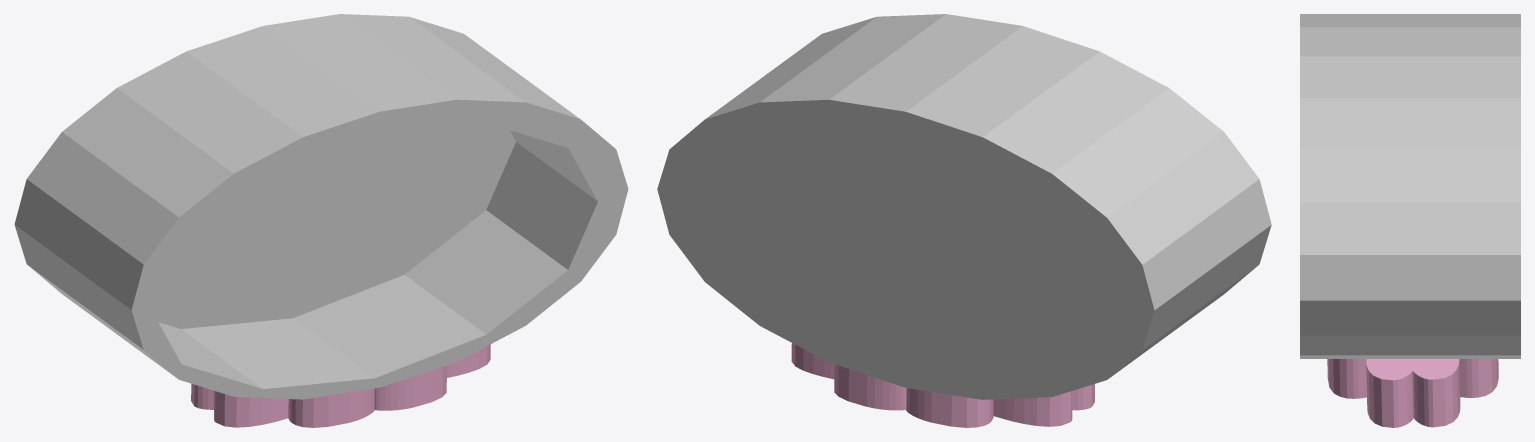
File: tinker.obj
3 views of the same model, side by side, from view 1: azimuth 30°, elevation 25°; view 2: azimuth 150°, elevation 25°; view 3: azimuth 270°, elevation 25° (orthographic). The views are drawn at different scales.
Parts seen in each view (by area): view 1: group_0_16089887, group_0_15708628; view 2: group_0_16089887, group_0_15708628; view 3: group_0_16089887, group_0_15708628.
Part boxes in pixels (x1=…): group_0_16089887: x1=14, y1=14, x2=628, y2=399; group_0_15708628: x1=191, y1=344, x2=490, y2=427; group_0_16089887: x1=657, y1=14, x2=1271, y2=399; group_0_15708628: x1=791, y1=343, x2=1094, y2=427; group_0_16089887: x1=1300, y1=14, x2=1520, y2=358; group_0_15708628: x1=1327, y1=359, x2=1498, y2=427.
Size of the model in its own units: 49 by 30 by 20.
